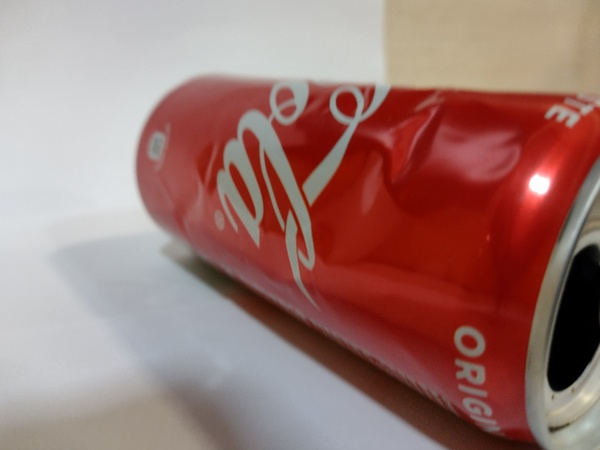can: (129, 64, 594, 445)
